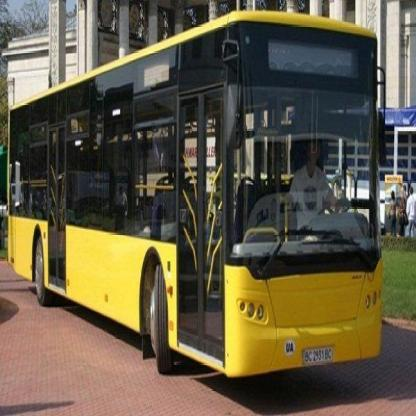Bus: (3, 4, 397, 408)
